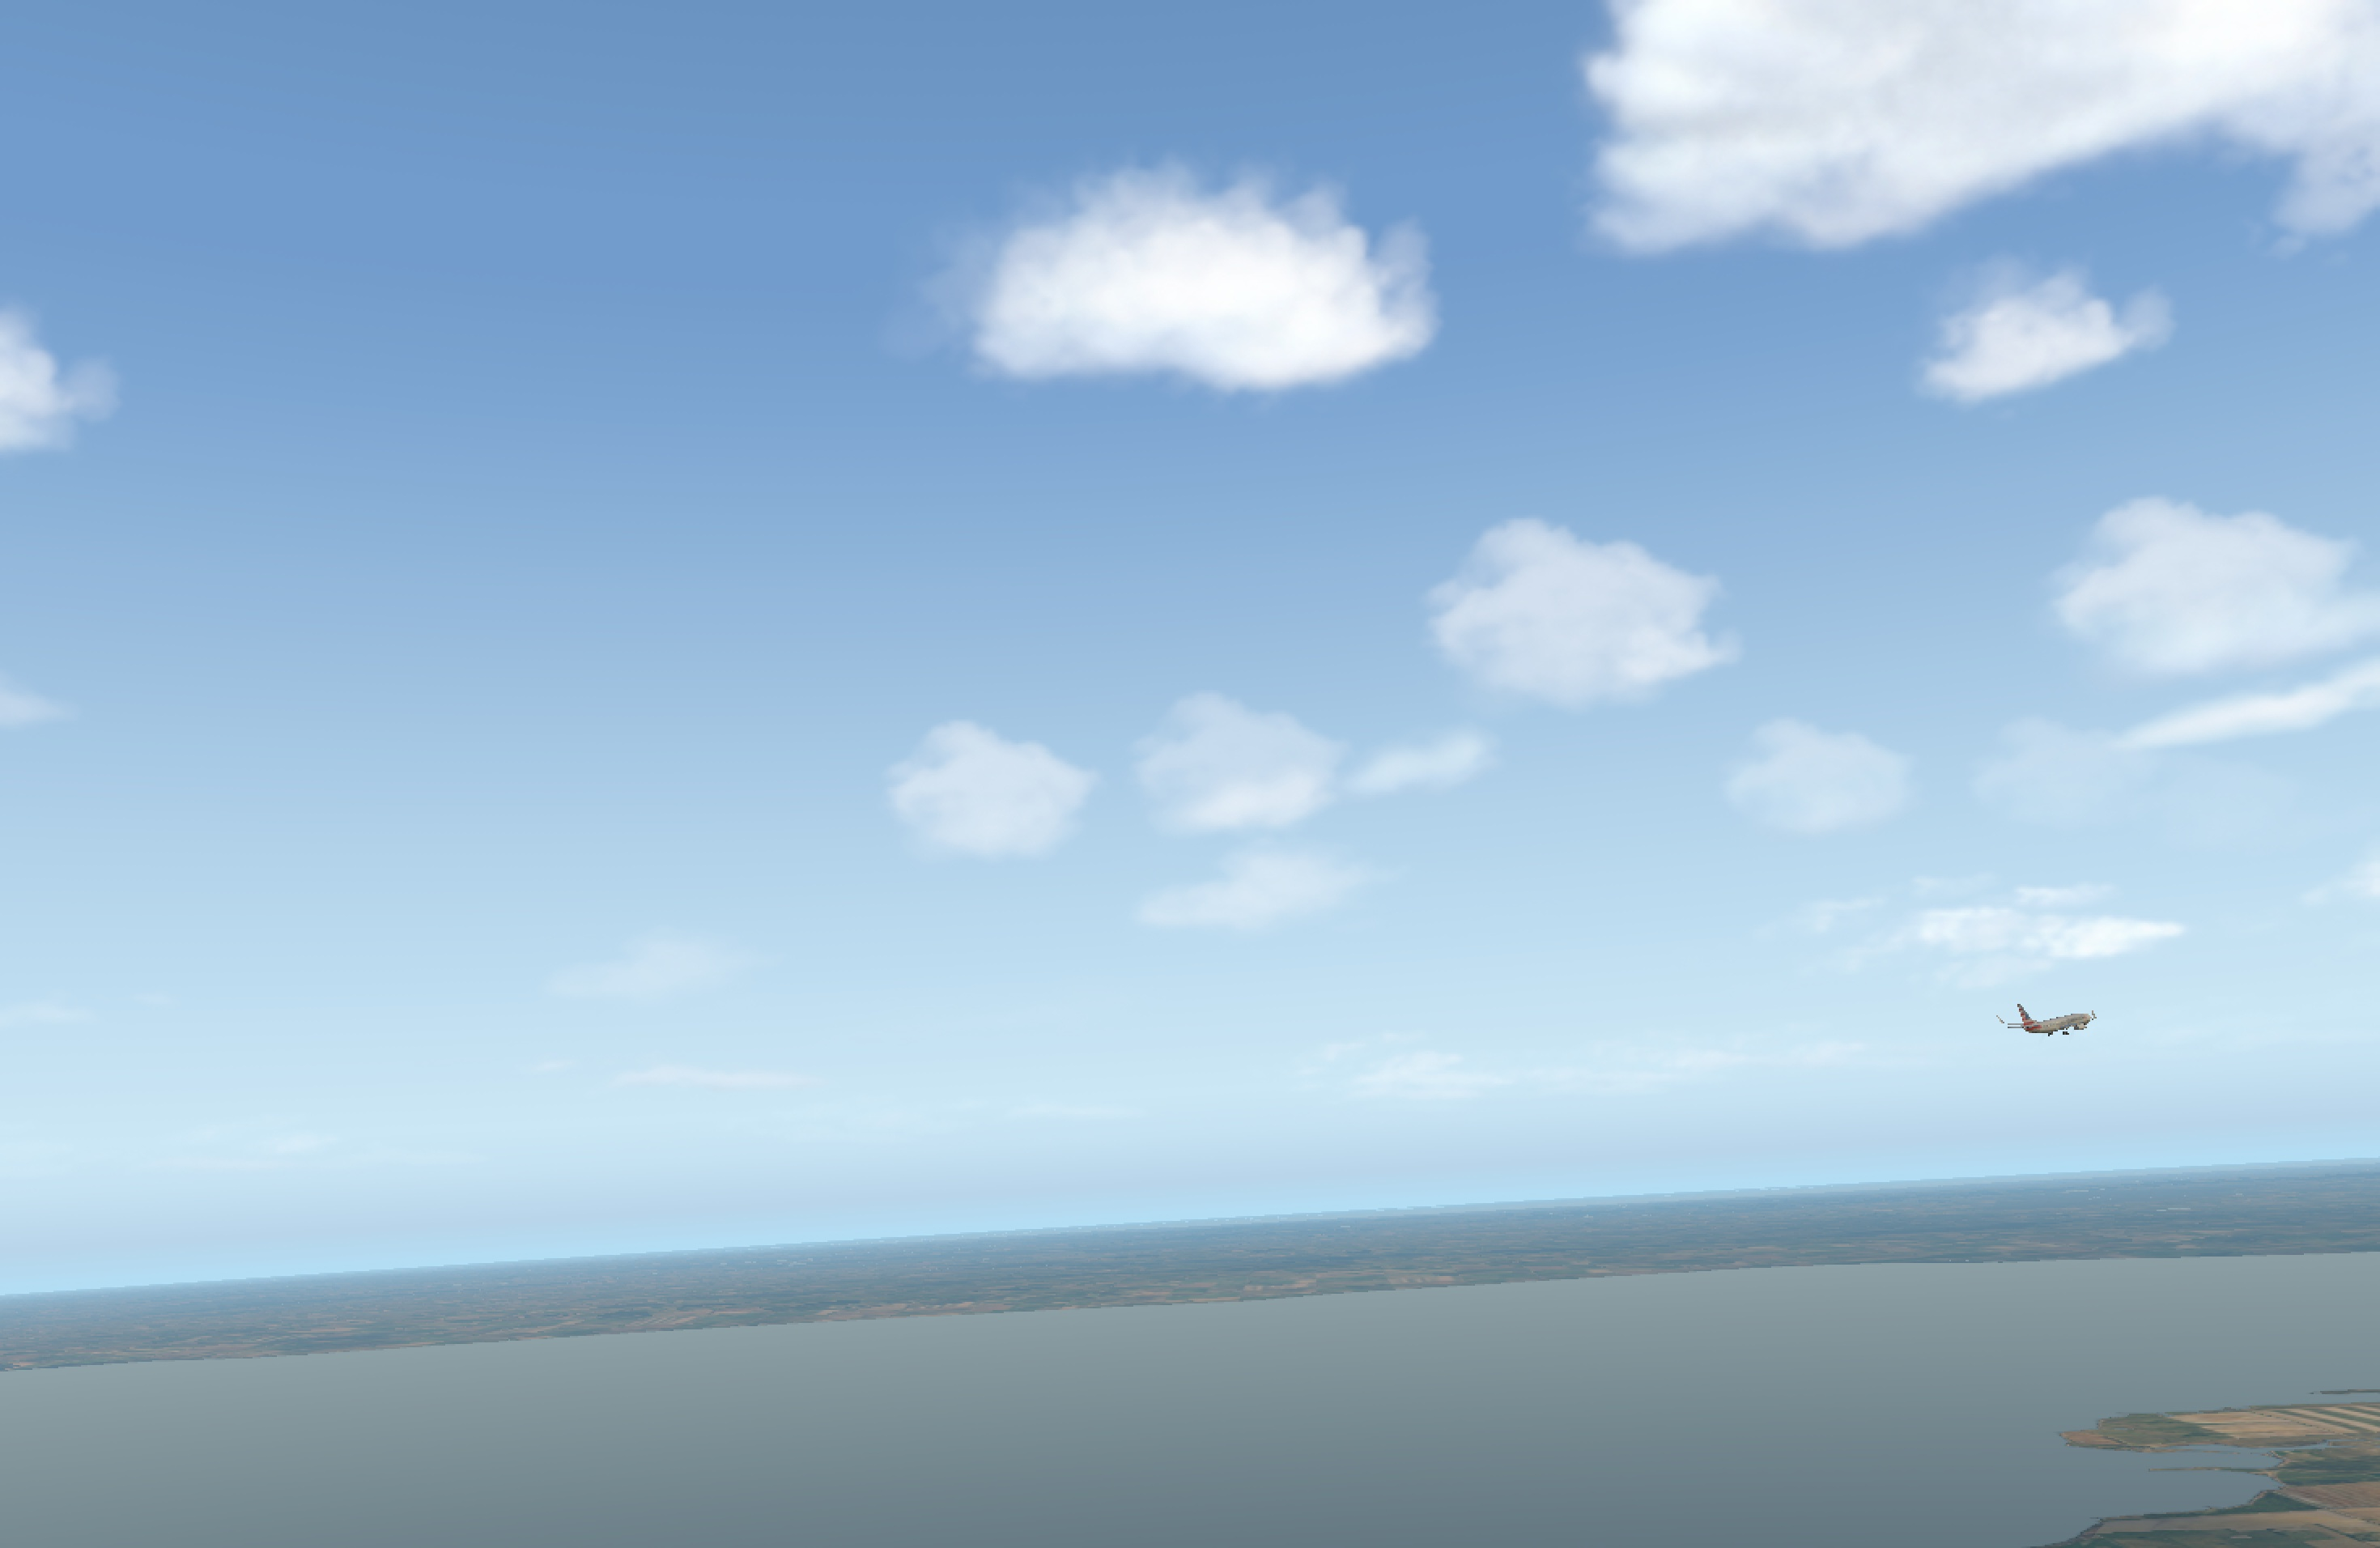aircraft: (2005, 1005, 2115, 1046)
